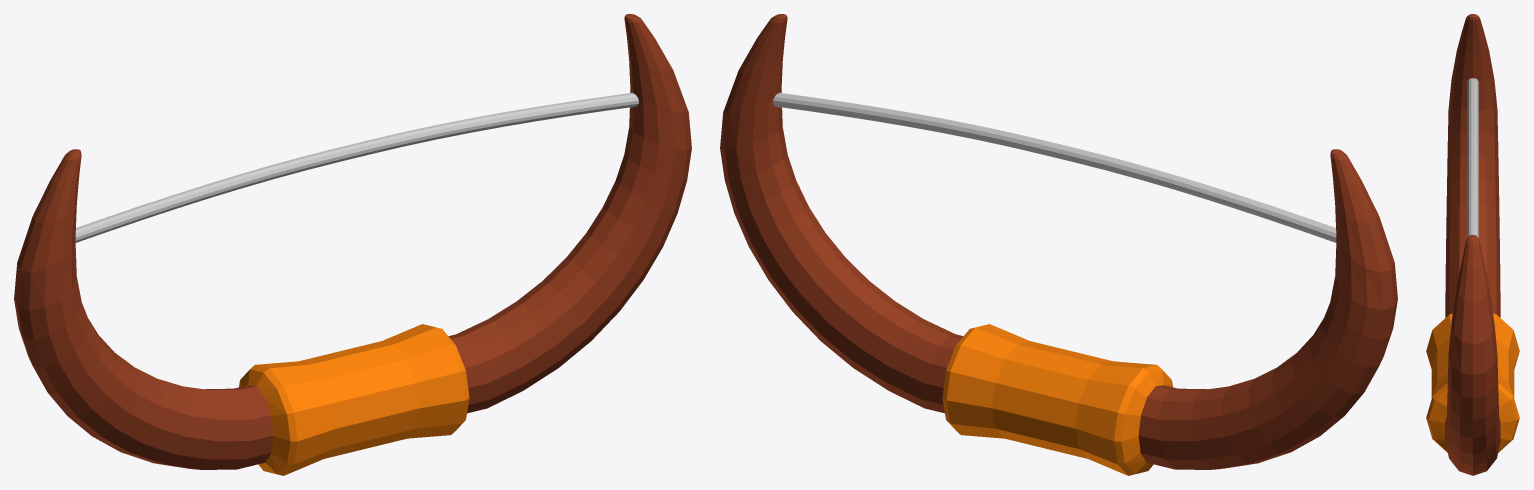
Rendered from bow_teamYellow.obj.
3 renders of one model, left to right at view 1: azimuth 30°, elevation 25°; view 2: azimuth 150°, elevation 25°; view 3: azimuth 270°, elevation 25°, orthographic. The views are drawn at different scales.
Parts seen in each view (by area): view 1: bow_teamYellow_Cube.1319; view 2: bow_teamYellow_Cube.1319; view 3: bow_teamYellow_Cube.1319.
Boxes of the visible parts, bbox=[...] form: bow_teamYellow_Cube.1319: bbox=[14, 14, 691, 475]; bow_teamYellow_Cube.1319: bbox=[720, 14, 1397, 475]; bow_teamYellow_Cube.1319: bbox=[1426, 14, 1519, 475].
Bounding box in the file's own units: 1.54 × 0.8126 × 0.2289.
